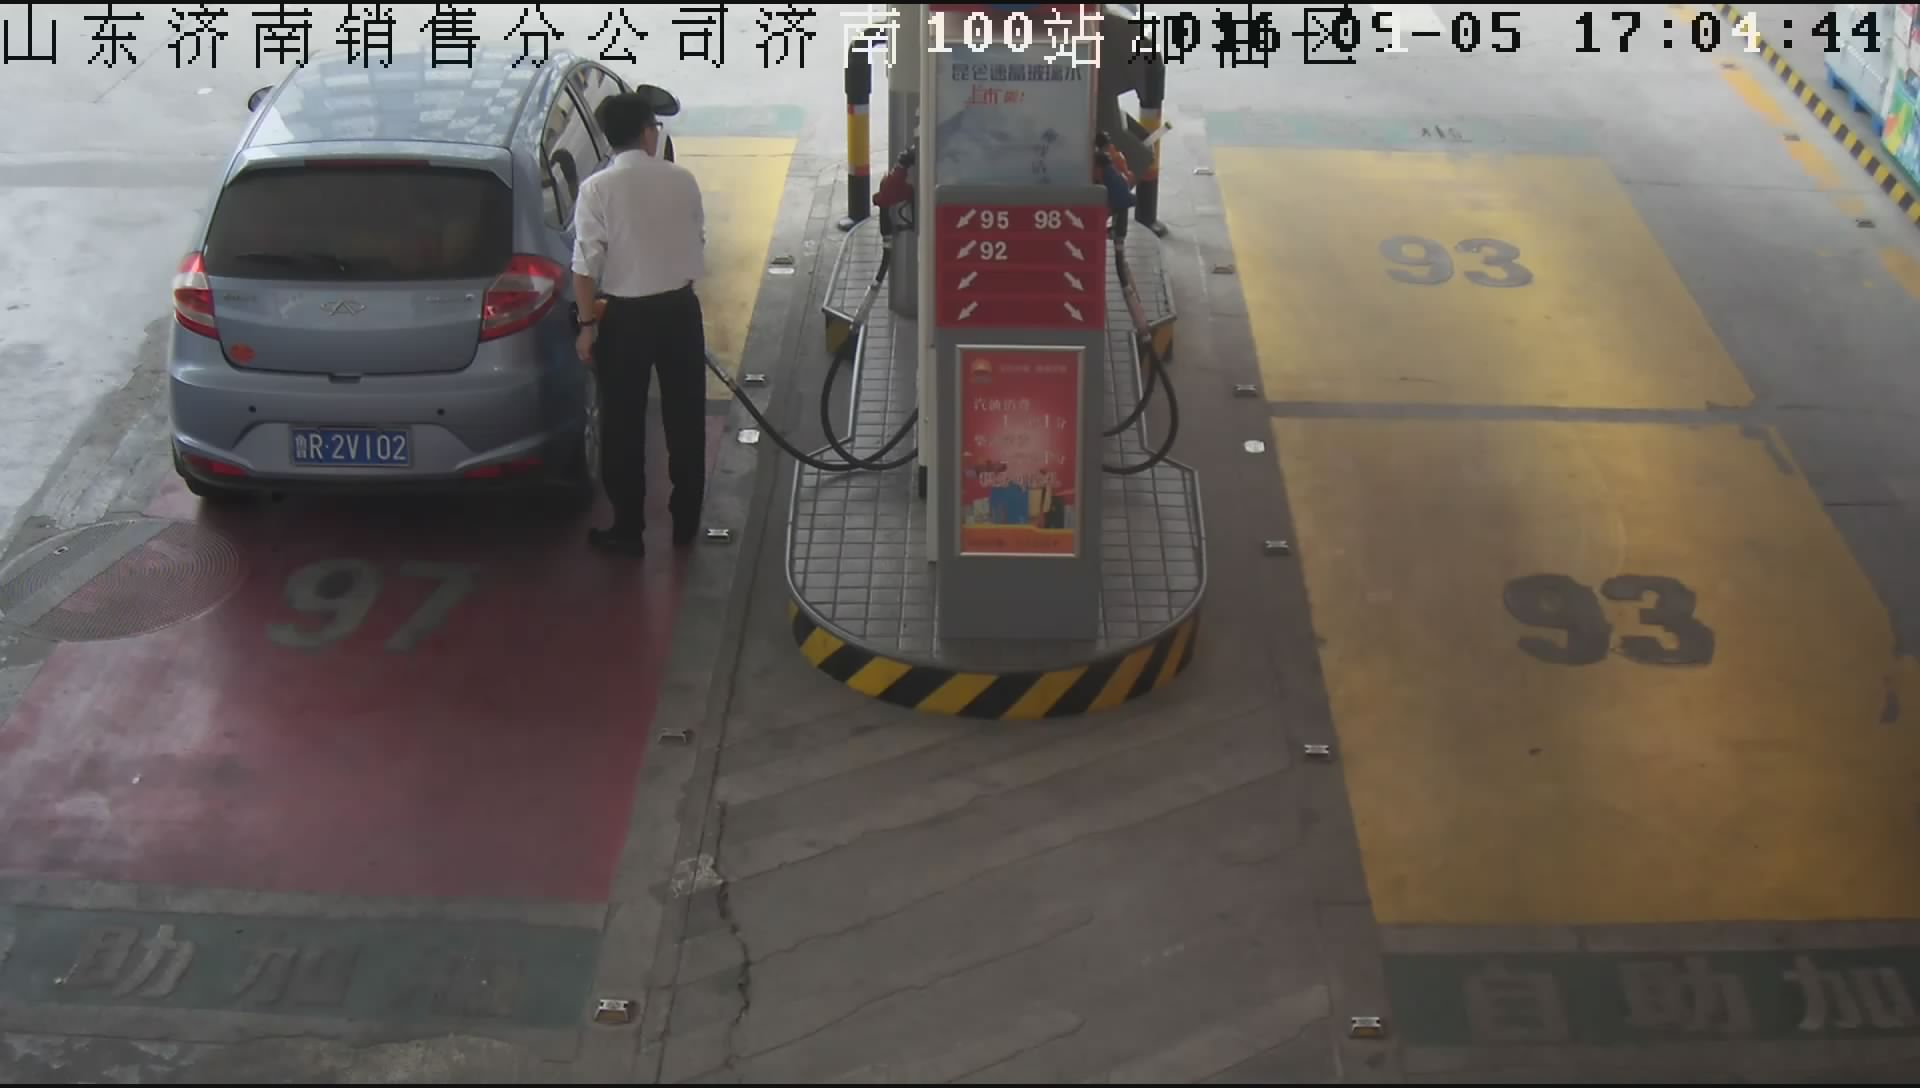blue: (290, 431, 414, 471)
